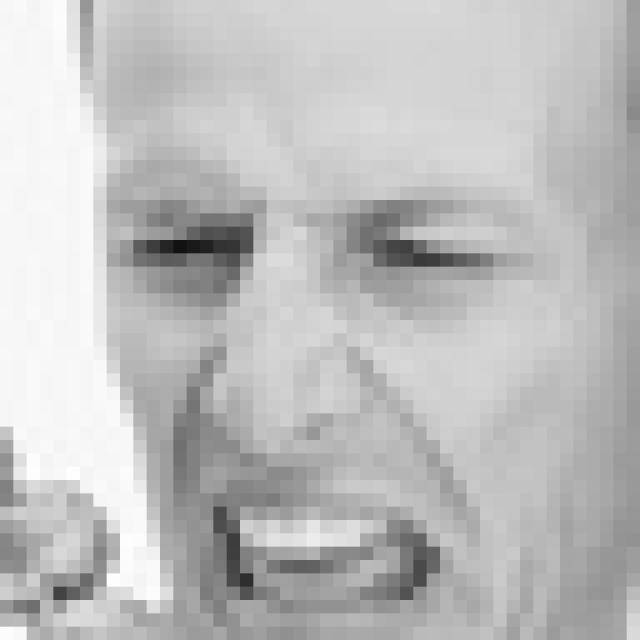disgust: (112, 147, 579, 640)
